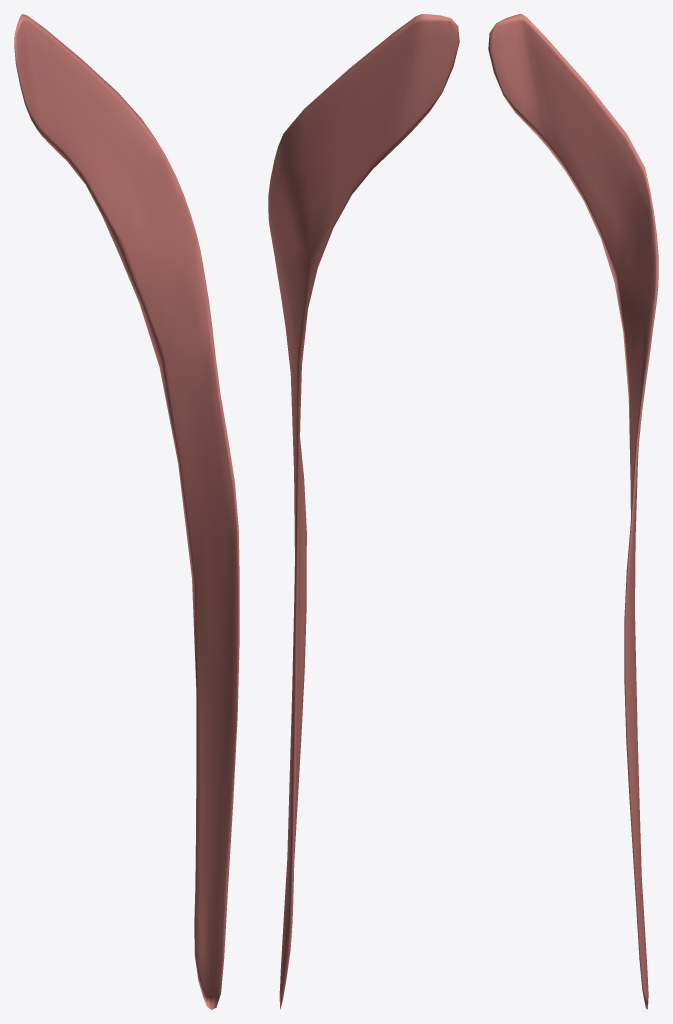
The picture shows the model from 3 angles, left to right: view 1: azimuth 30°, elevation 25°; view 2: azimuth 150°, elevation 25°; view 3: azimuth 330°, elevation 25°; orthographic projection. The views are drawn at different scales.
Visible parts, largest first — view 1: ZA_18585b10d7df3957; view 2: ZA_18585b10d7df3957; view 3: ZA_18585b10d7df3957.
Boxes of the visible parts, x1=… form: ZA_18585b10d7df3957: x1=14, y1=14, x2=239, y2=1009; ZA_18585b10d7df3957: x1=268, y1=14, x2=459, y2=1009; ZA_18585b10d7df3957: x1=488, y1=14, x2=658, y2=1009.
Size of the model in its own units: 0.0254 by 0.1314 by 0.0146.
